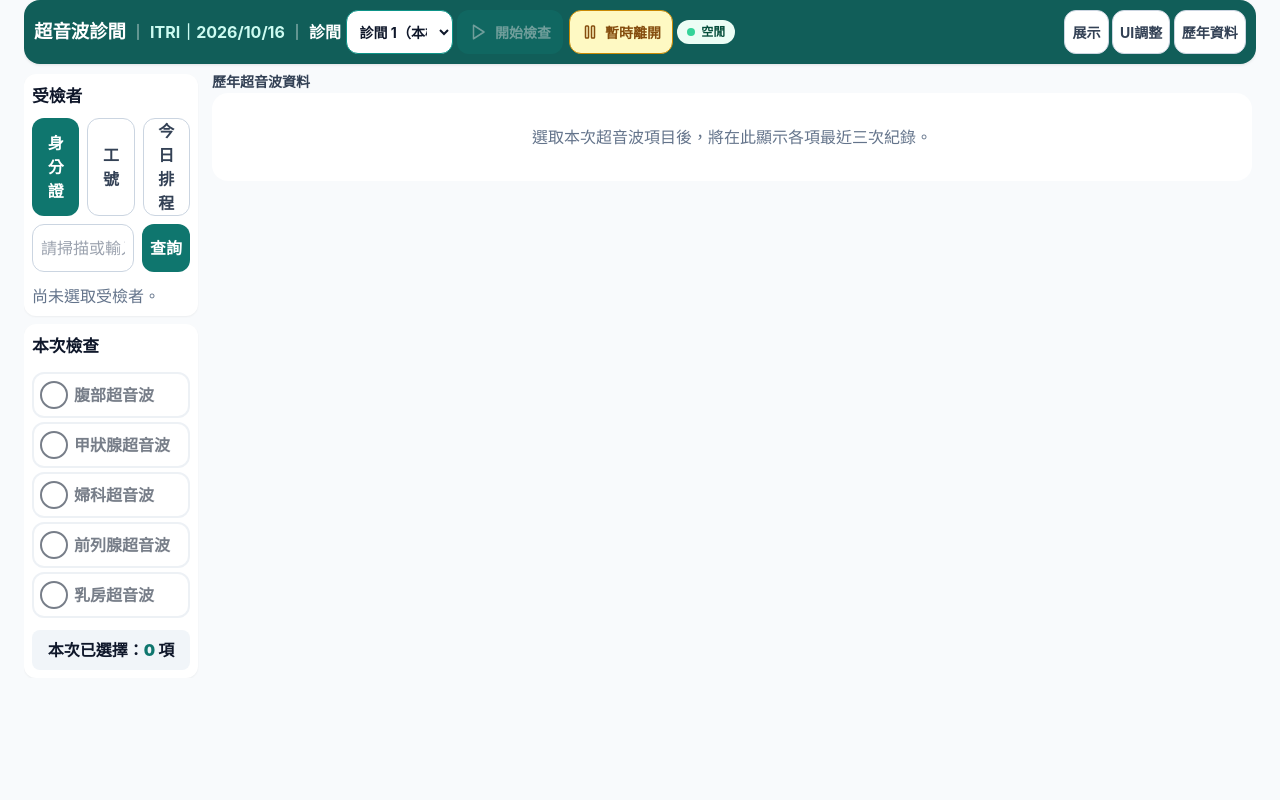
Test: 診間選擇今日受檢者共用正式候檢順位 › 順位更新不重設已選受檢者、檢查項目與歷年資料
Step 1. Click the button "今日排程" → (166, 167), box [143,118,190,216]
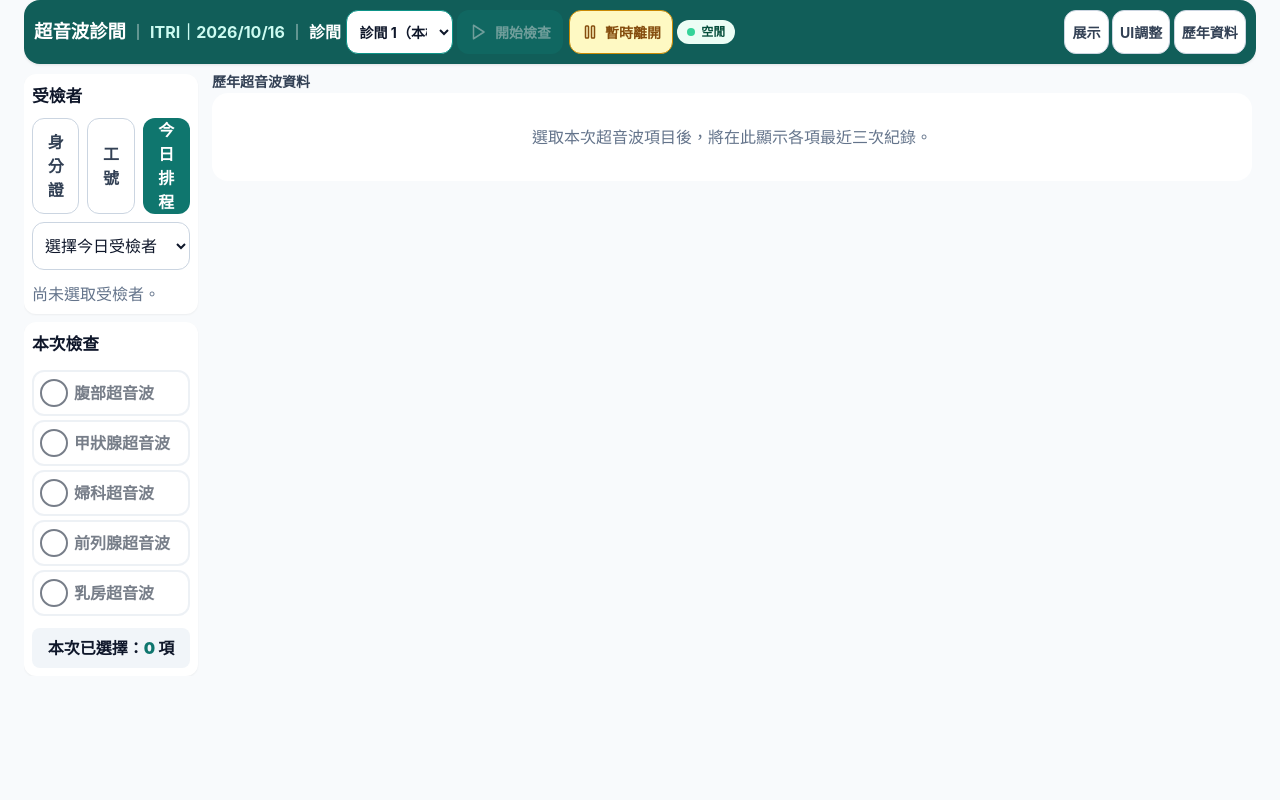
Step 2. Select "A1 完整姓名A（00A）" in the dropdown named "今日受檢者" → (111, 246), box [32,222,190,270]
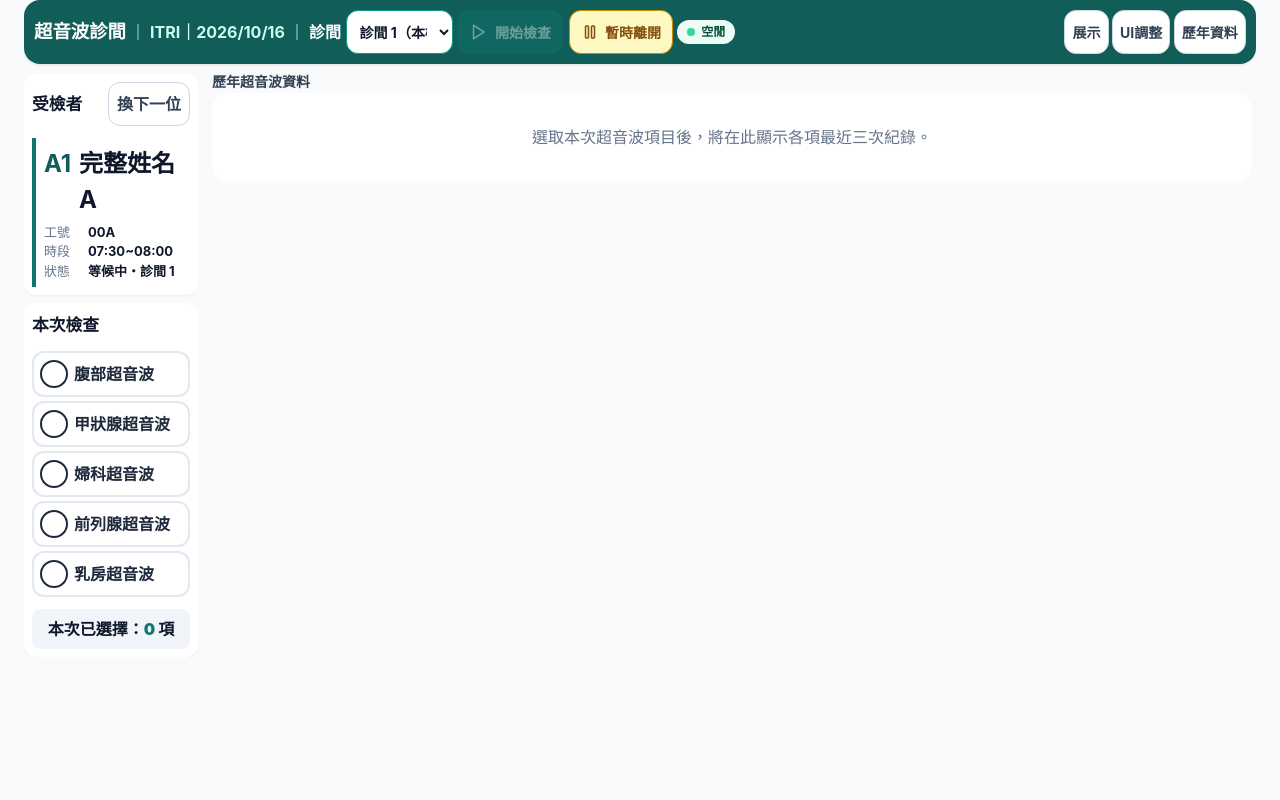
Step 3. Click the button "腹部超音波" → (111, 374), box [32,351,190,397]
Wait 125 ms
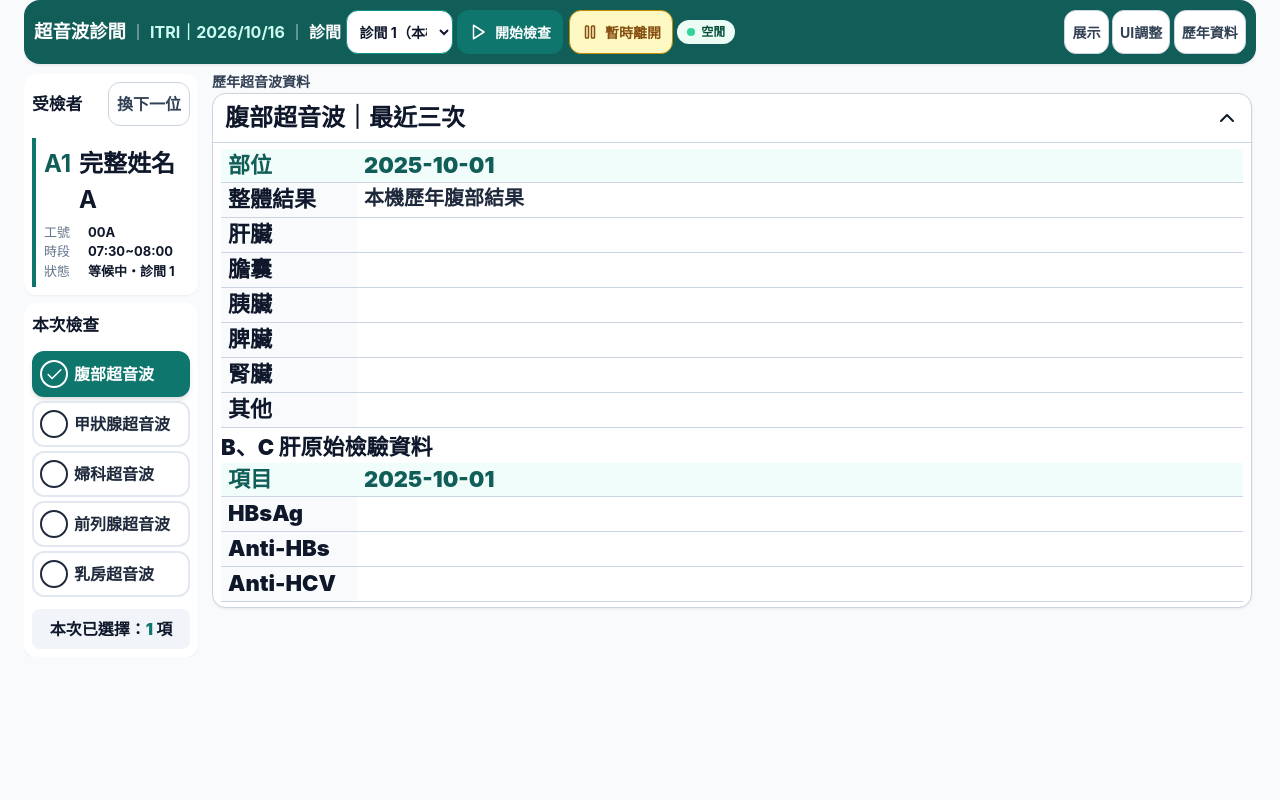
Check: the text with class "room-patient-name" reads "完整姓名A", box [79,149,175,214]
Check: the button "開始檢查" is enabled, box [457,10,563,54]
Check: the element with class "room-history" shows "本機歷年腹部結果", box [364,186,524,210]
